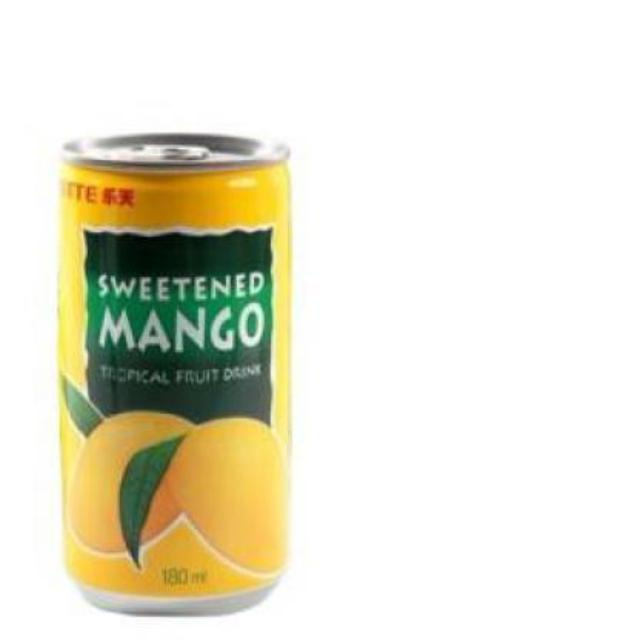metal: (57, 132, 288, 609)
